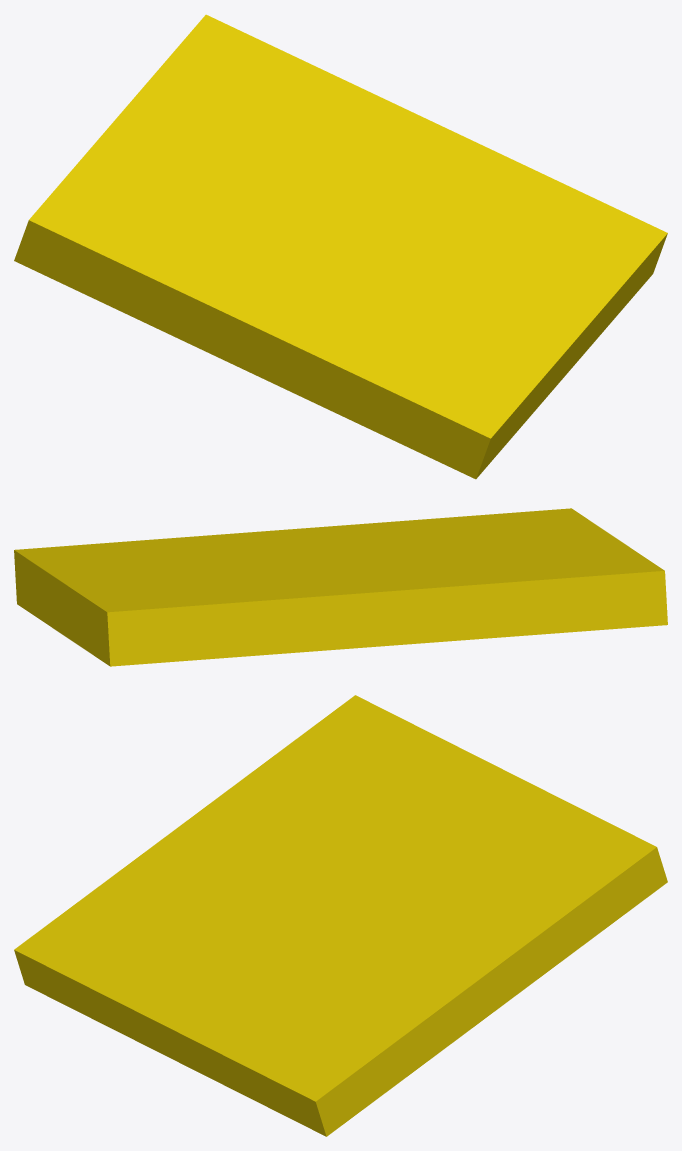
Rendered from yellowPaper.fbx.
3 views of the same model, one above another, from view 1: azimuth 30°, elevation 25°; view 2: azimuth 150°, elevation 25°; view 3: azimuth 270°, elevation 25° (orthographic). The views are drawn at different scales.
Visible parts, largest first — view 1: Paper; view 2: Paper; view 3: Paper.
Part boxes in pixels (bbox=[...]): Paper: bbox=[14, 14, 667, 479]; Paper: bbox=[14, 508, 667, 666]; Paper: bbox=[14, 695, 667, 1136].
Size of the model in its own units: 0.746 by 0.217 by 0.7447.
